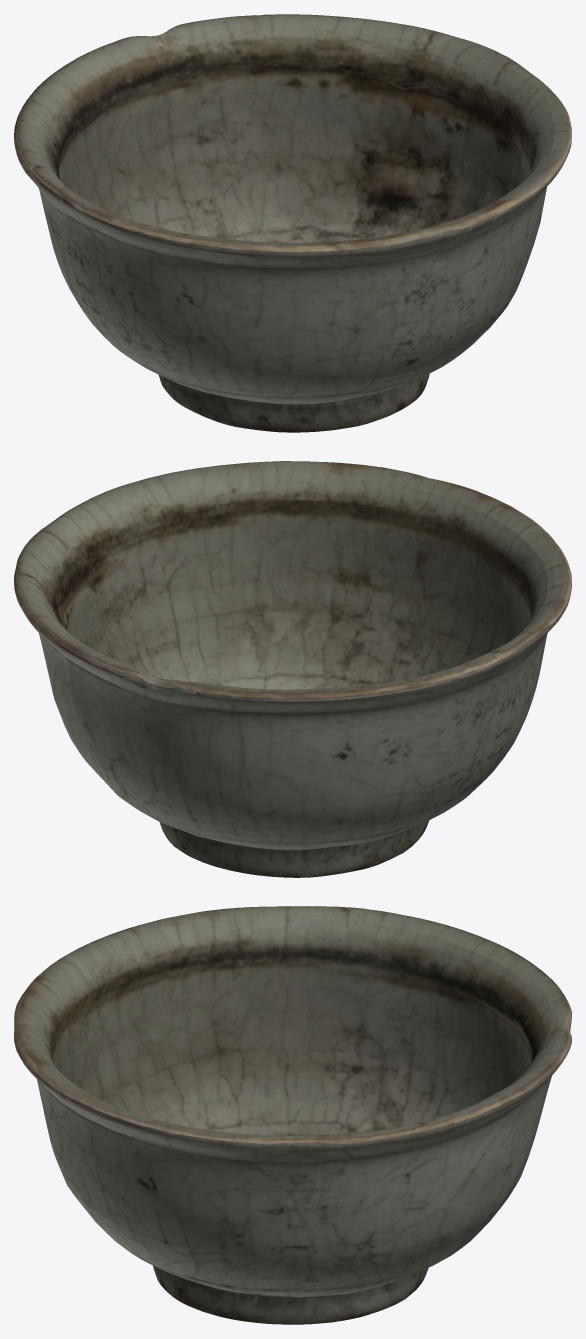
Rendered from celadon-bowl.glb.
The picture shows the model from 3 angles, top to bottom: view 1: azimuth 30°, elevation 25°; view 2: azimuth 150°, elevation 25°; view 3: azimuth 270°, elevation 25°; orthographic projection.
Parts seen in each view (by area): view 1: geometry_0; view 2: geometry_0; view 3: geometry_0.
Part boxes in pixels (x1=…): geometry_0: x1=14, y1=14, x2=571, y2=432; geometry_0: x1=14, y1=461, x2=571, y2=877; geometry_0: x1=14, y1=906, x2=571, y2=1324.
Size of the model in its own units: 0.12 by 0.059 by 0.1199.
Materials: 1 (1 with a texture image).
